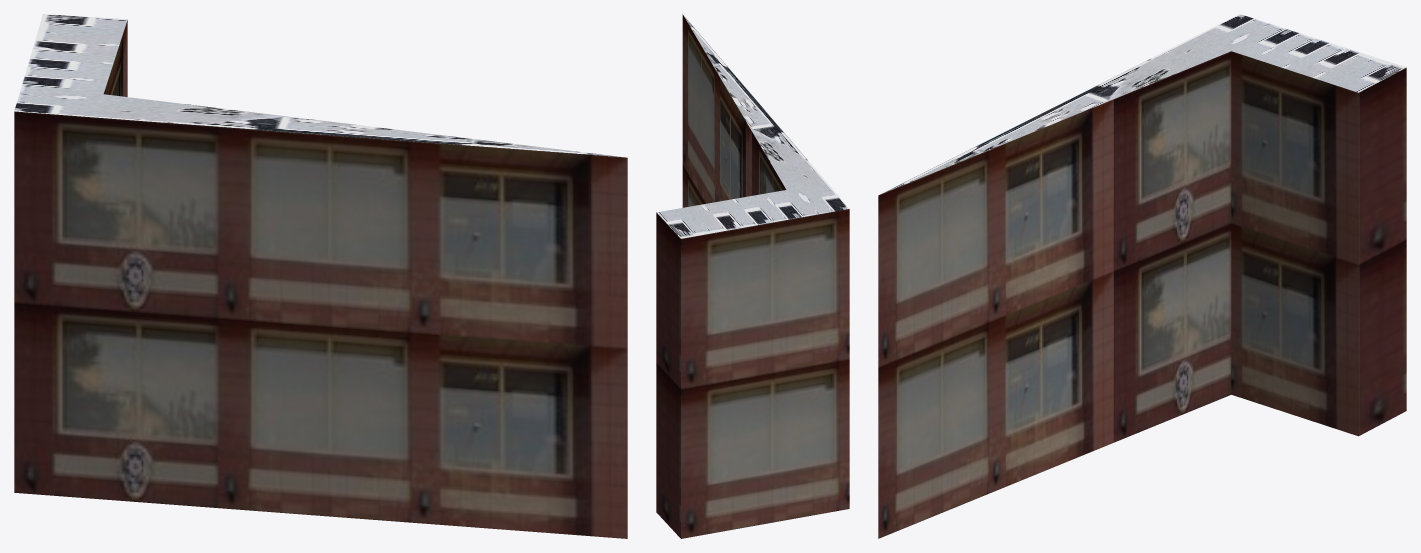
Rendered from ResTex__3196.fbx.
3 views of the same model, side by side, from view 1: azimuth 30°, elevation 25°; view 2: azimuth 150°, elevation 25°; view 3: azimuth 270°, elevation 25° (orthographic). The views are drawn at different scales.
Parts seen in each view (by area): view 1: CityEngineMaterial_13_m, CityEngineMaterial_8_m; view 2: CityEngineMaterial_13_m, CityEngineMaterial_8_m; view 3: CityEngineMaterial_13_m, CityEngineMaterial_8_m.
Part boxes in pixels (box(x1,y1,x2,y2)): CityEngineMaterial_13_m: box(14, 20, 627, 538); CityEngineMaterial_8_m: box(14, 14, 623, 157); CityEngineMaterial_13_m: box(656, 14, 849, 538); CityEngineMaterial_8_m: box(657, 15, 849, 238); CityEngineMaterial_13_m: box(878, 51, 1406, 538); CityEngineMaterial_8_m: box(880, 14, 1406, 194).
Bounding box in the file's own units: 6.8 × 6 × 8.37.
Materials: 2 (2 with a texture image).
